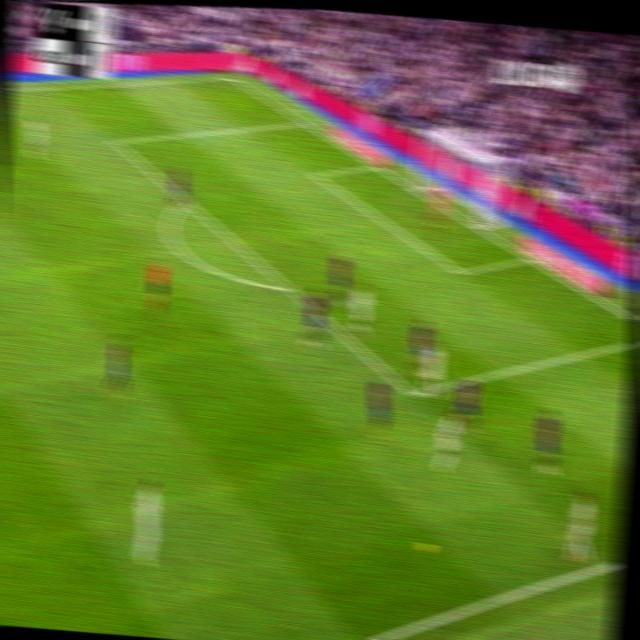bigarea_bottom_inner: (404, 383, 421, 406)
bigarea_top_inner: (110, 134, 124, 149)
bigarea_top_outter: (297, 114, 310, 127)
bottom_arc_area_intersection: (279, 277, 297, 297)
corner: (223, 70, 241, 83)
smallarea_top_inner: (311, 169, 322, 182)
top_arc_area_intersection: (180, 193, 194, 208)
